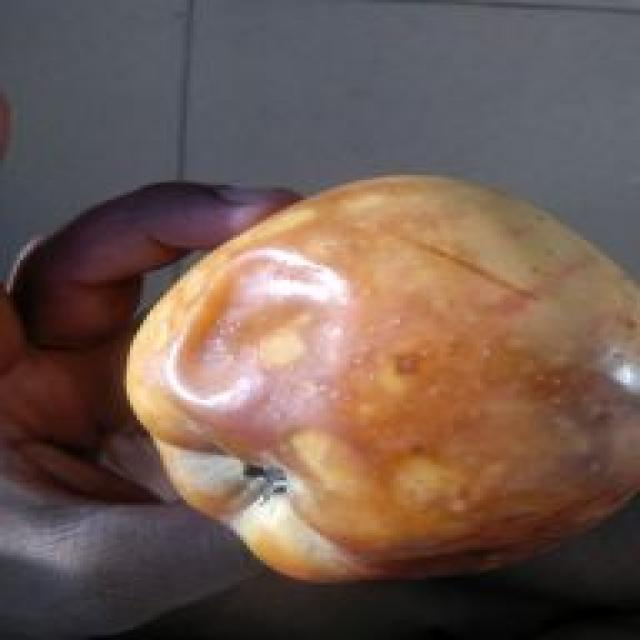Bad_Apple: (128, 178, 638, 581)
